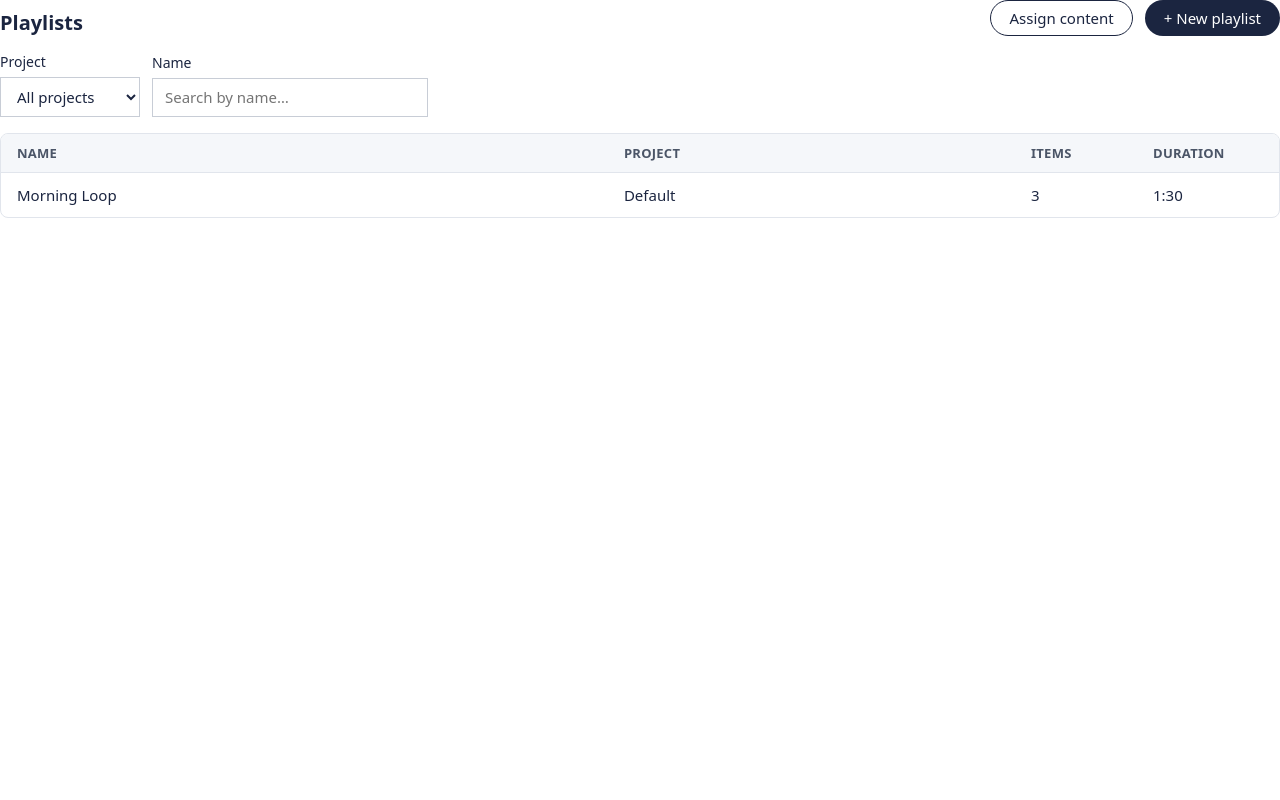
Test: PlaylistsPage — dwell-time editor › flags a zero-dwell image with a warning badge and blocks an empty save
Click the text "Morning Loop".
click(67, 195)  # box [1,172,608,217]
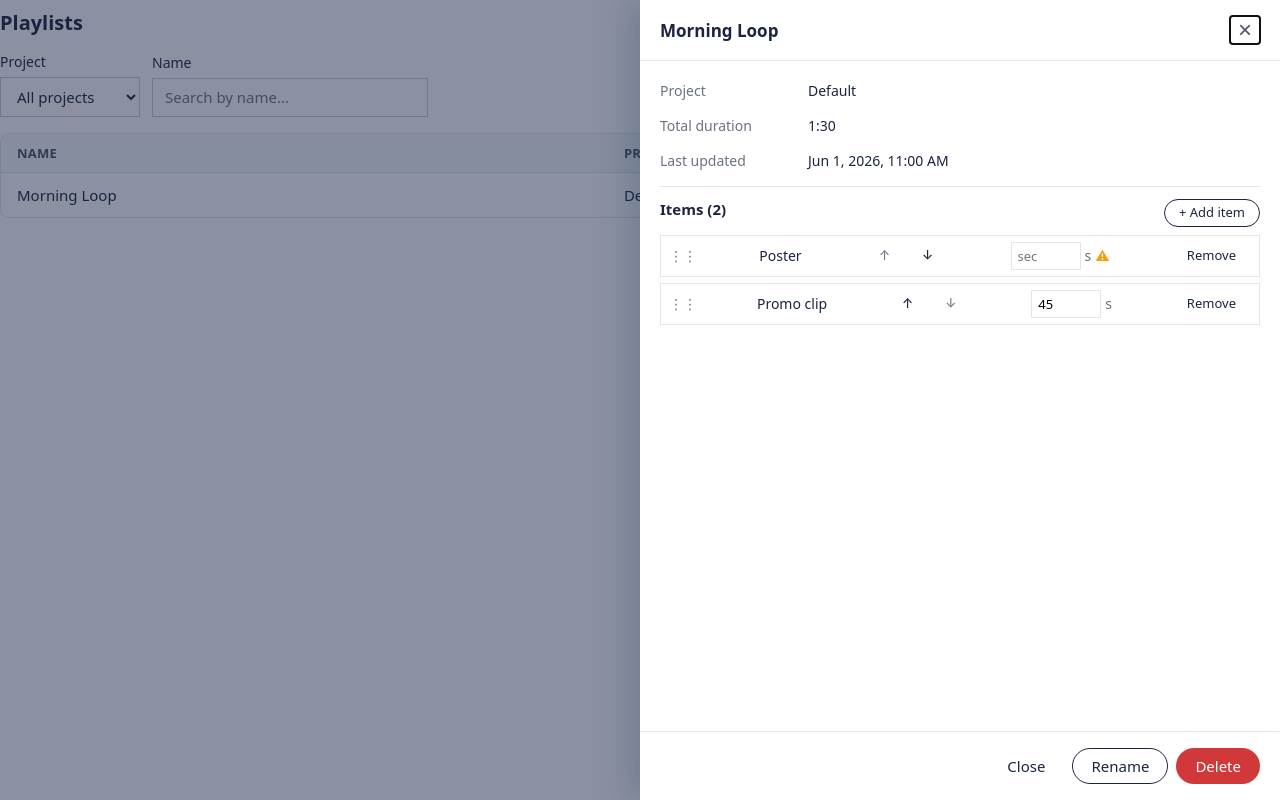
Expected: the number field named "Dwell time in seconds for Poster" is shown
Expected: the picture named "No dwell time set" is shown, [1095,249,1110,263]
Leave the number field named "Dwell time in seconds for Poster", box [1010,242,1080,270]
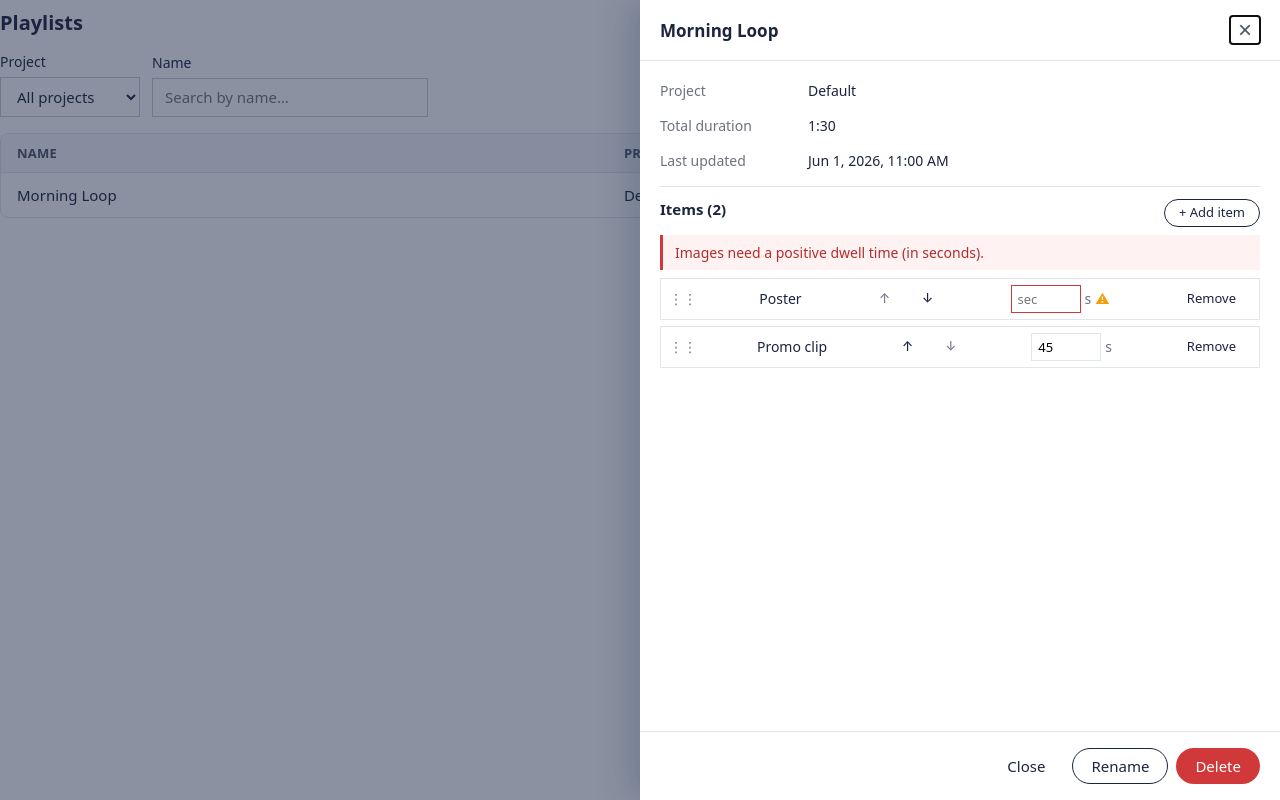
Expected: the text "Images need a positive dwell time (in seconds)." is shown, [660,235,1260,270]
